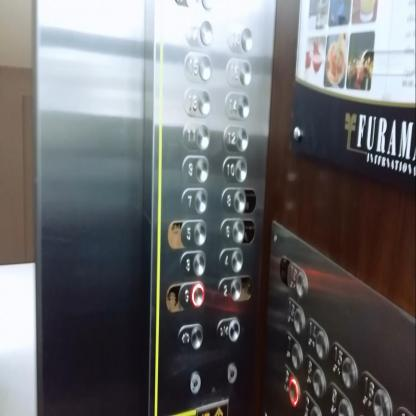10: (220, 153, 249, 184)
11: (181, 121, 210, 153)
12: (220, 122, 250, 154)
13: (282, 294, 306, 338), (183, 84, 214, 118)
14: (304, 315, 329, 363), (223, 90, 250, 121)
15: (328, 333, 357, 392), (184, 49, 214, 83)
16: (224, 54, 252, 88)
18: (224, 23, 254, 54)
2: (216, 273, 244, 304)
3: (179, 247, 207, 277)
4: (217, 245, 243, 273)
5: (180, 216, 207, 246)
6: (218, 216, 245, 244)
7: (178, 186, 209, 218), (282, 330, 302, 373)
8: (219, 184, 249, 215)
9: (180, 153, 210, 184)
G: (176, 279, 205, 310)
blur: (303, 353, 327, 399), (279, 362, 300, 407), (184, 18, 214, 49), (286, 256, 308, 298)
close: (214, 315, 241, 346)
keyhole: (189, 370, 201, 394), (227, 362, 237, 383)
open: (177, 320, 204, 352)
